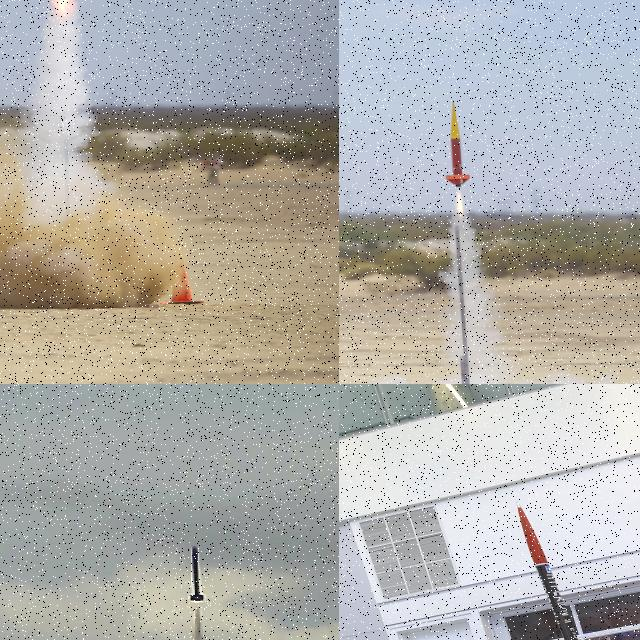Rocket: (516, 500, 578, 640), (445, 99, 471, 188), (188, 546, 205, 602)
